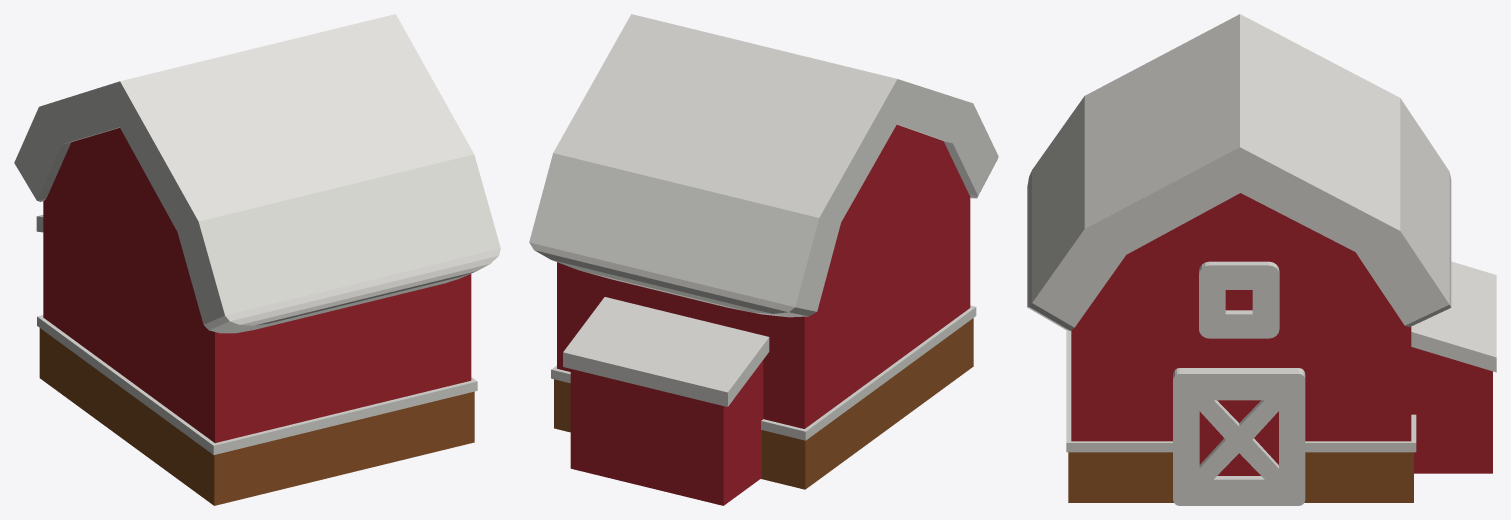
The model's file is barn.glb.
The picture shows the model from 3 angles, left to right: view 1: azimuth 30°, elevation 25°; view 2: azimuth 150°, elevation 25°; view 3: azimuth 270°, elevation 25°; orthographic projection. The views are drawn at different scales.
Visible parts, largest first — view 1: Cube.006; view 2: Cube.006; view 3: Cube.006.
Part boxes in pixels (bbox=[...]): Cube.006: bbox=[14, 14, 500, 505]; Cube.006: bbox=[529, 14, 998, 505]; Cube.006: bbox=[1027, 14, 1496, 505].
Size of the model in its own units: 26.51 by 33.05 by 39.1.
